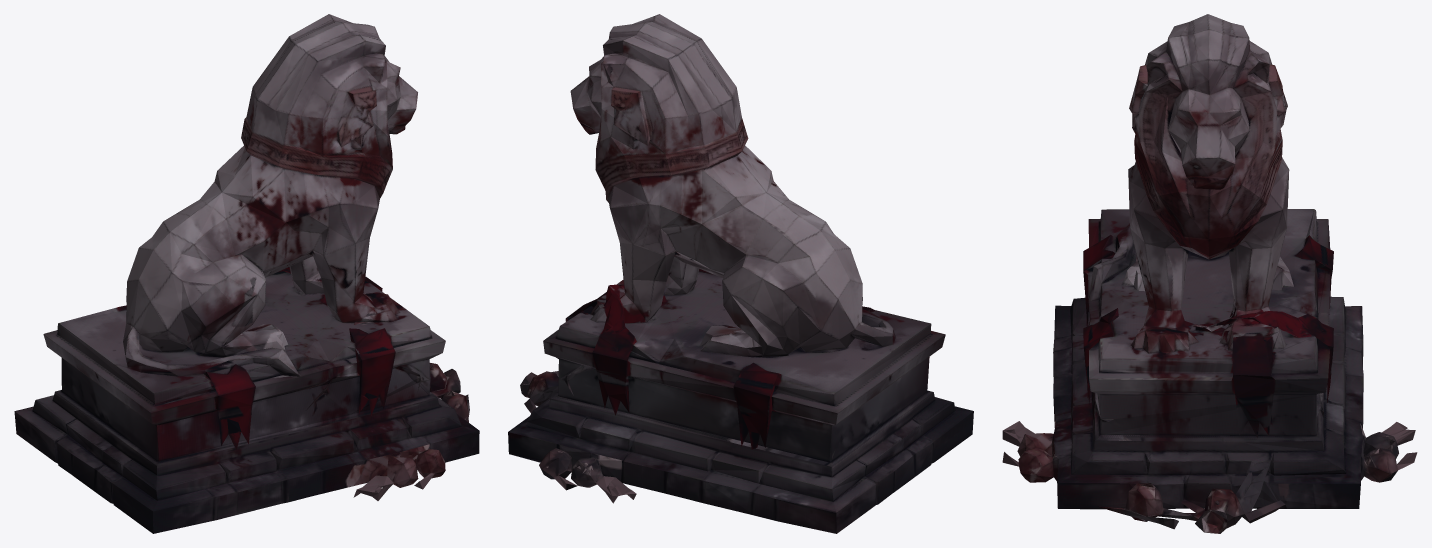
File: statusLion_LOD1.glb
3 views of the same model, side by side, from view 1: azimuth 30°, elevation 25°; view 2: azimuth 150°, elevation 25°; view 3: azimuth 270°, elevation 25° (orthographic). The views are drawn at different scales.
Size of the model in its own units: 0.9834 by 1 by 0.8433.
Materials: 1 (1 with a texture image).
